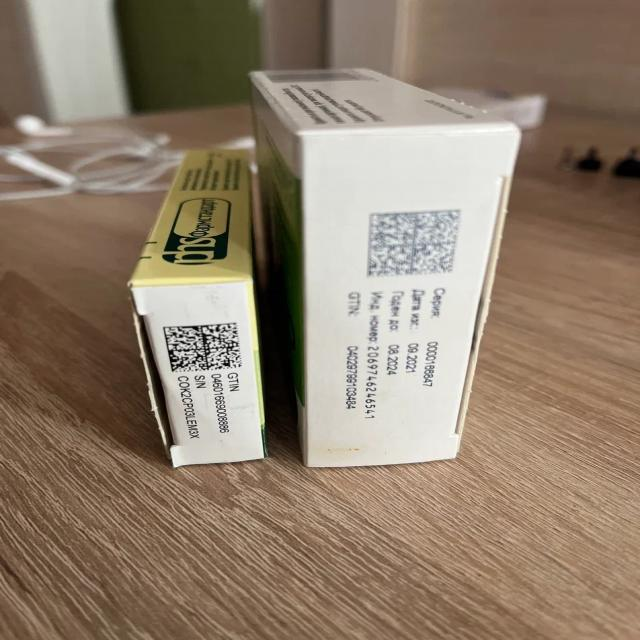datamatrix: (367, 208, 463, 279), (162, 322, 247, 374)
